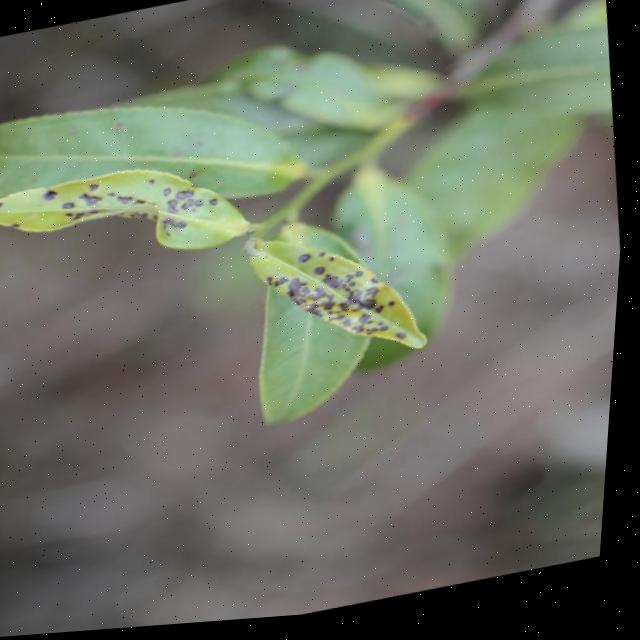Tea red scab: (270, 240, 411, 360), (39, 178, 146, 246), (142, 188, 218, 245)
